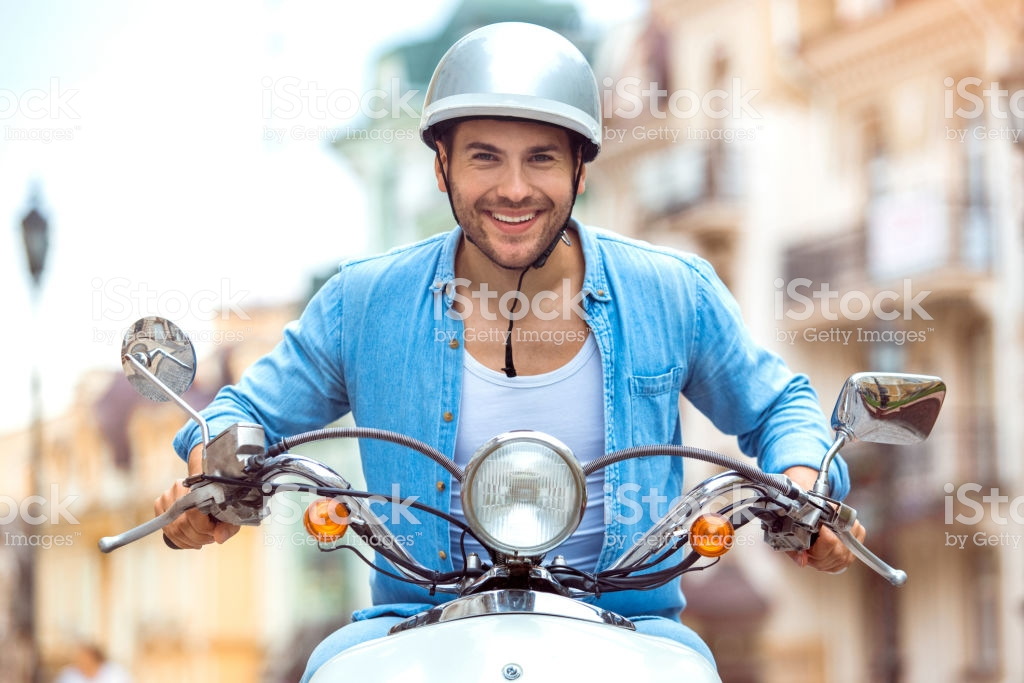helmet: (418, 21, 609, 162)
